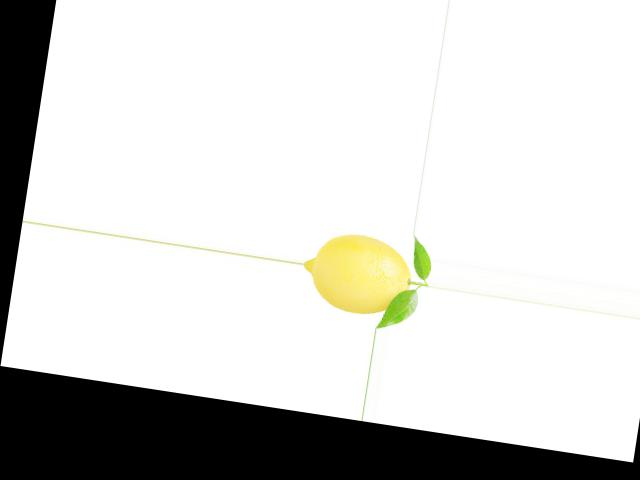lemon: (299, 224, 427, 326)
